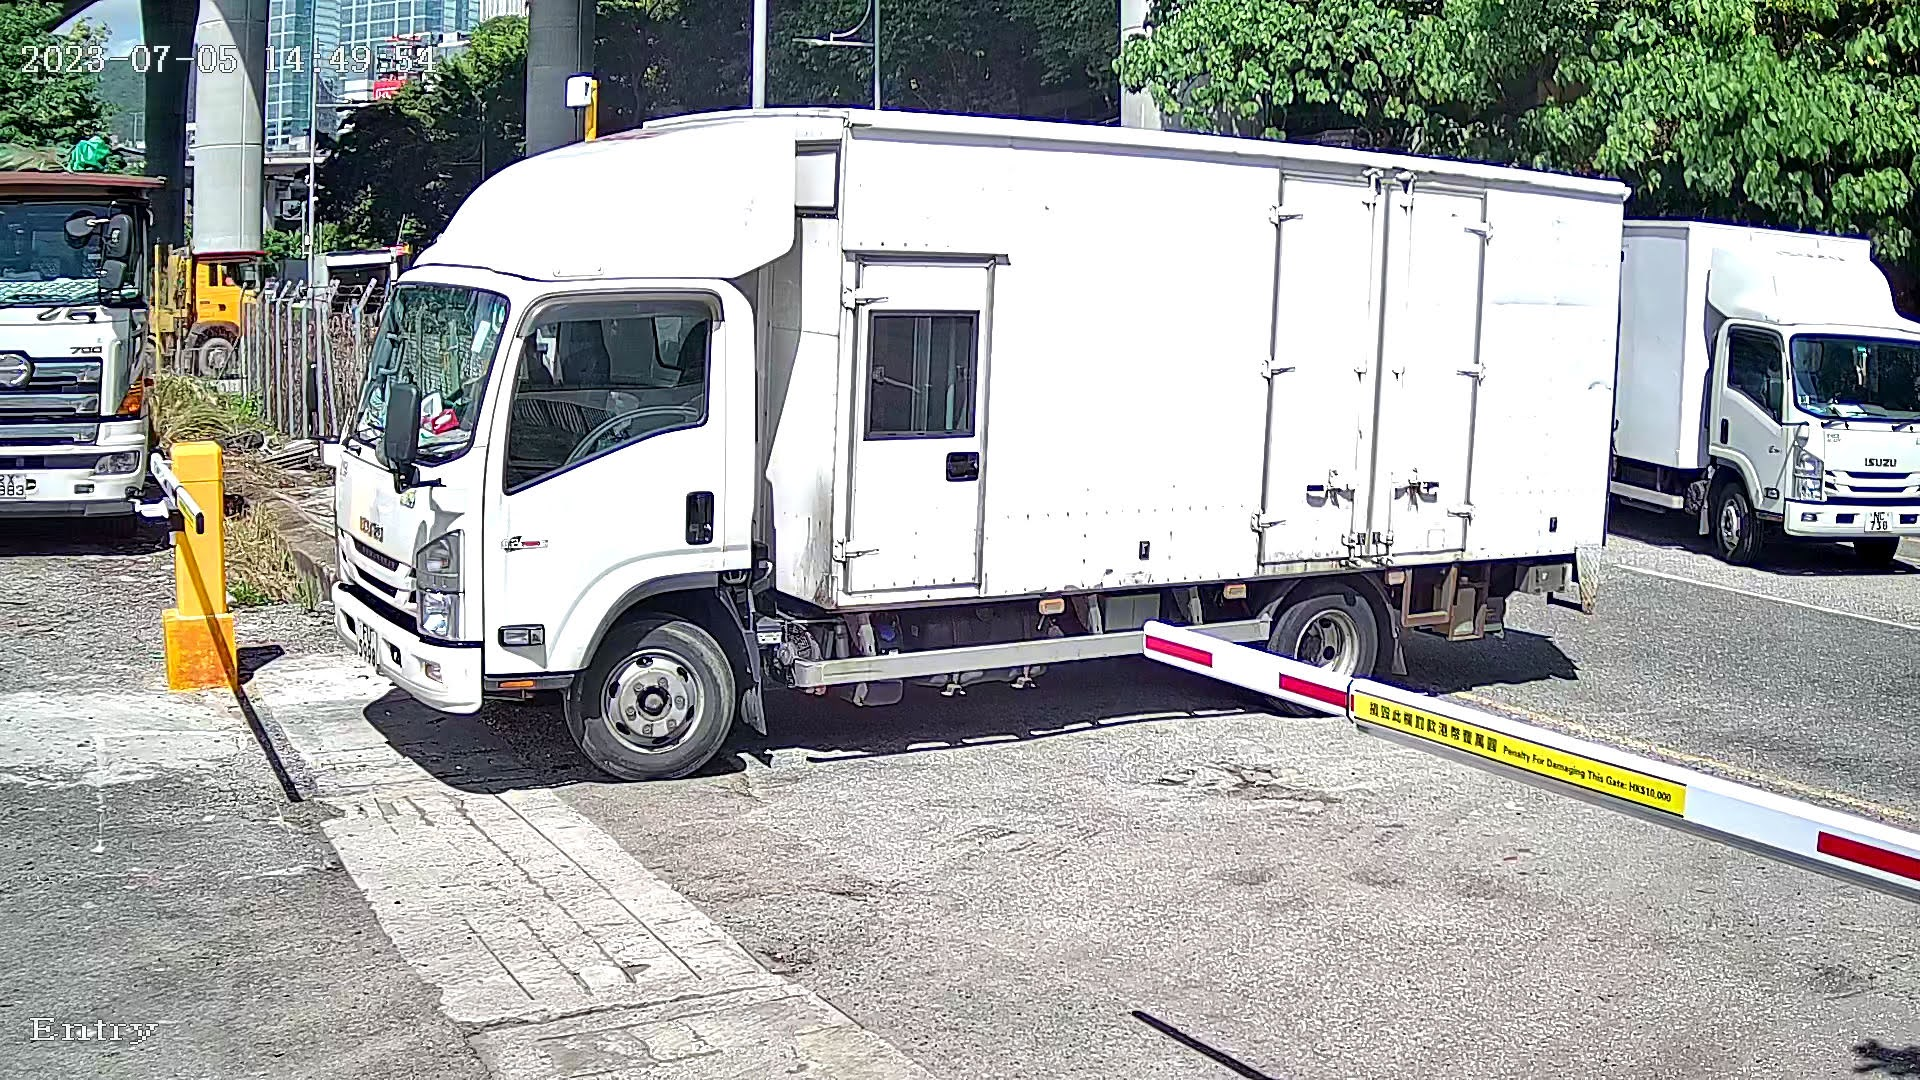truck_small: (301, 91, 1683, 839)
